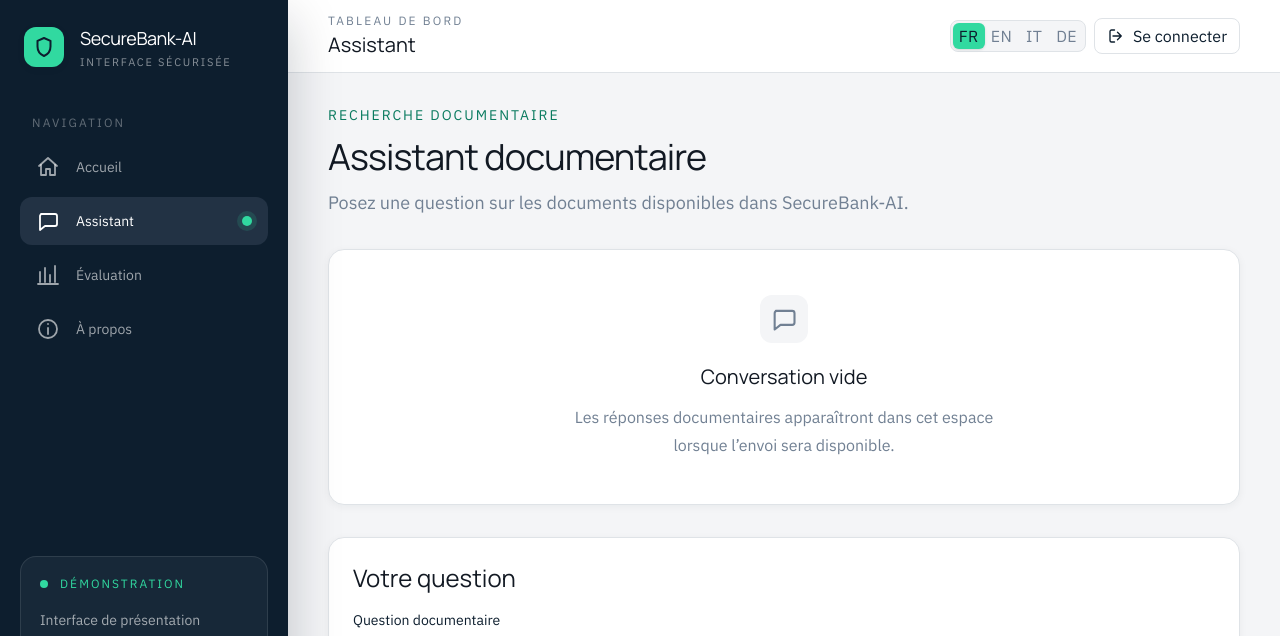
Test: on-demand authentication › keeps evaluation visible after a standard user login
The image size is (1280, 636).
Click the button "Se connecter" at (1167, 36), box [1094,18,1240,54]
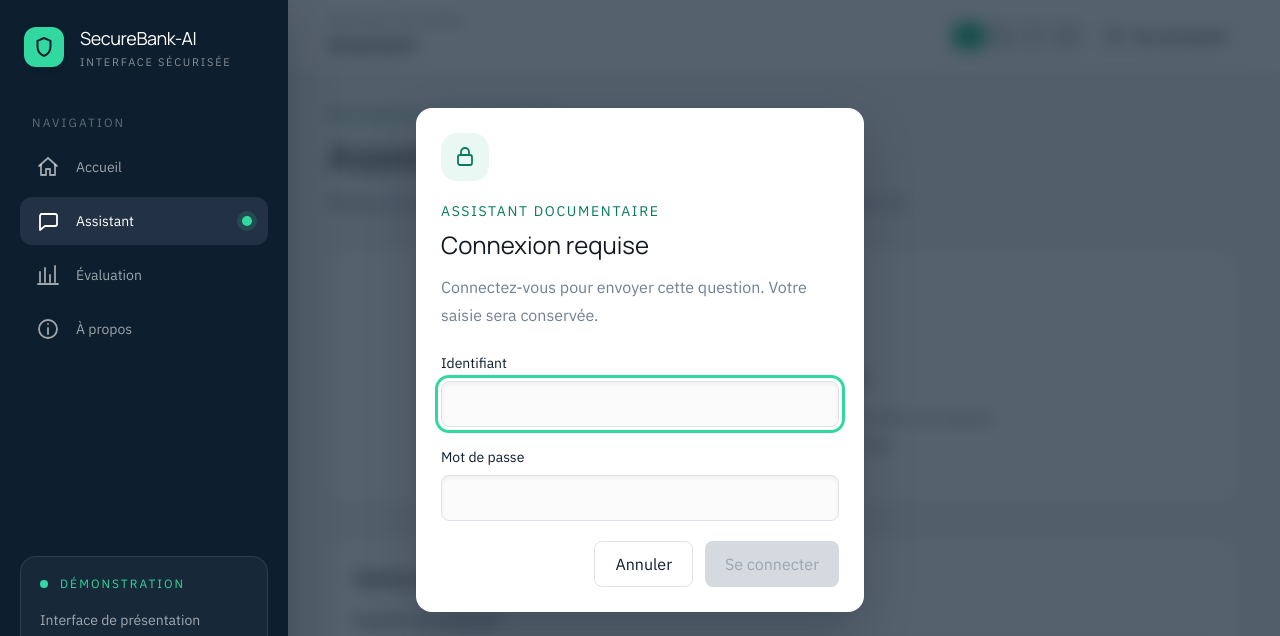
Type "demo.user" into the field labelled "Identifiant" at (640, 404), box [441,381,839,427]
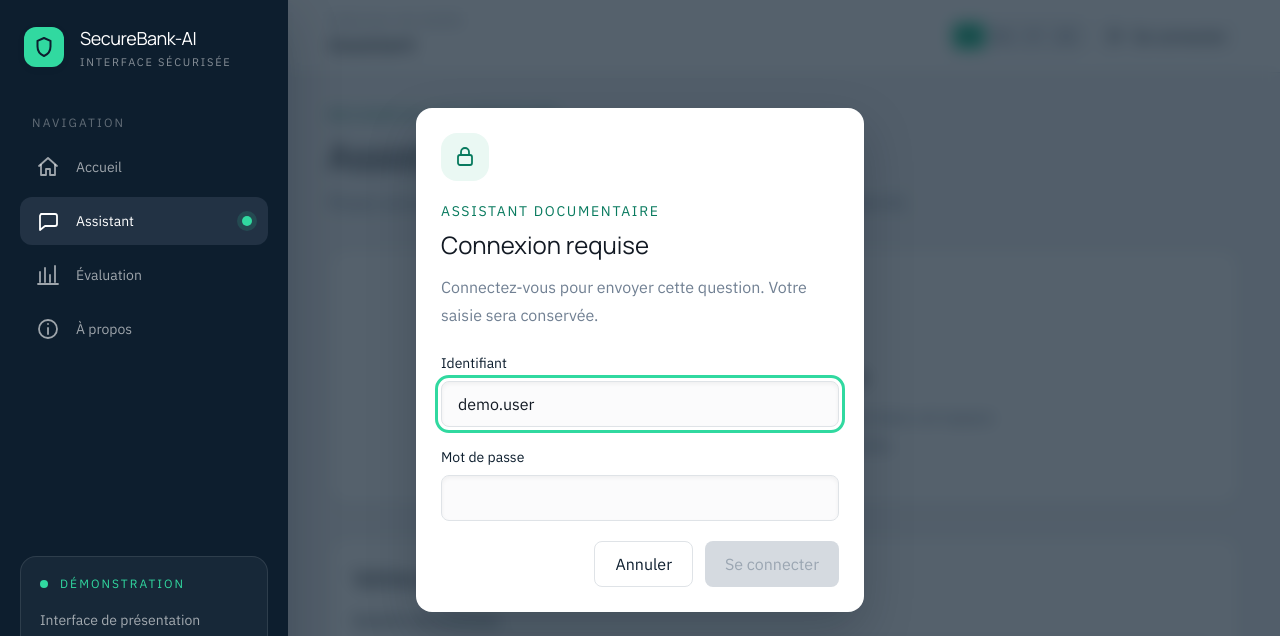
Type "synthetic-password" into the password field labelled "Mot de passe" at (640, 498), box [441,475,839,521]
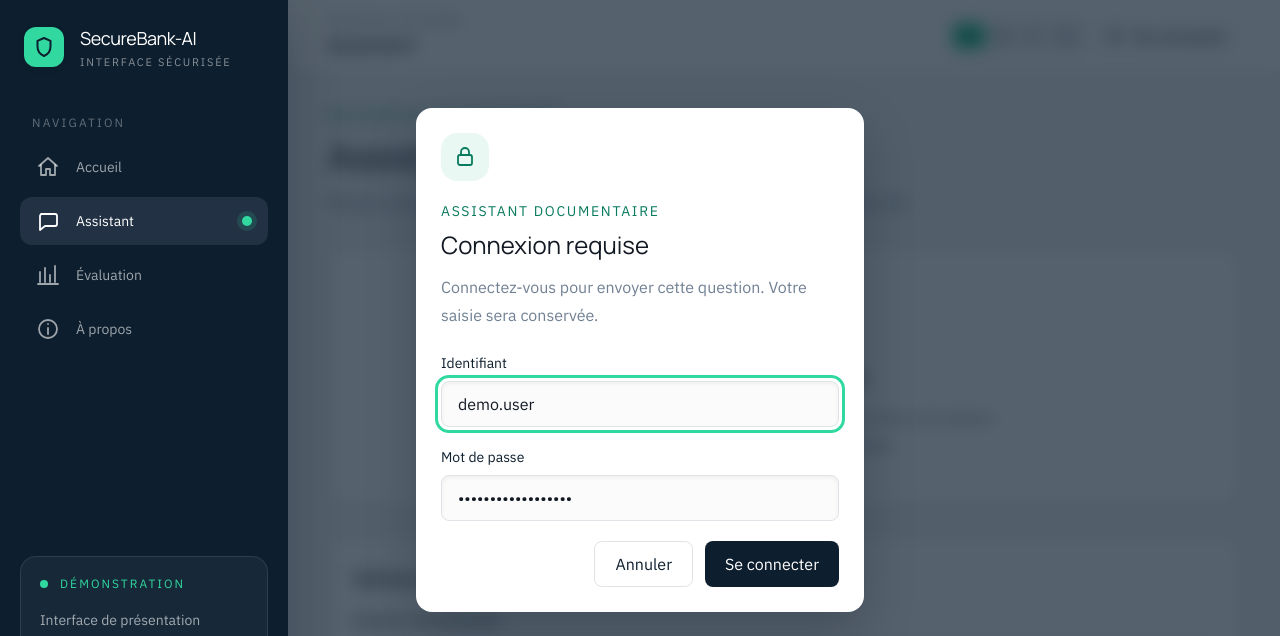
Click the button "Se connecter" at (772, 564), box [705,541,839,587]
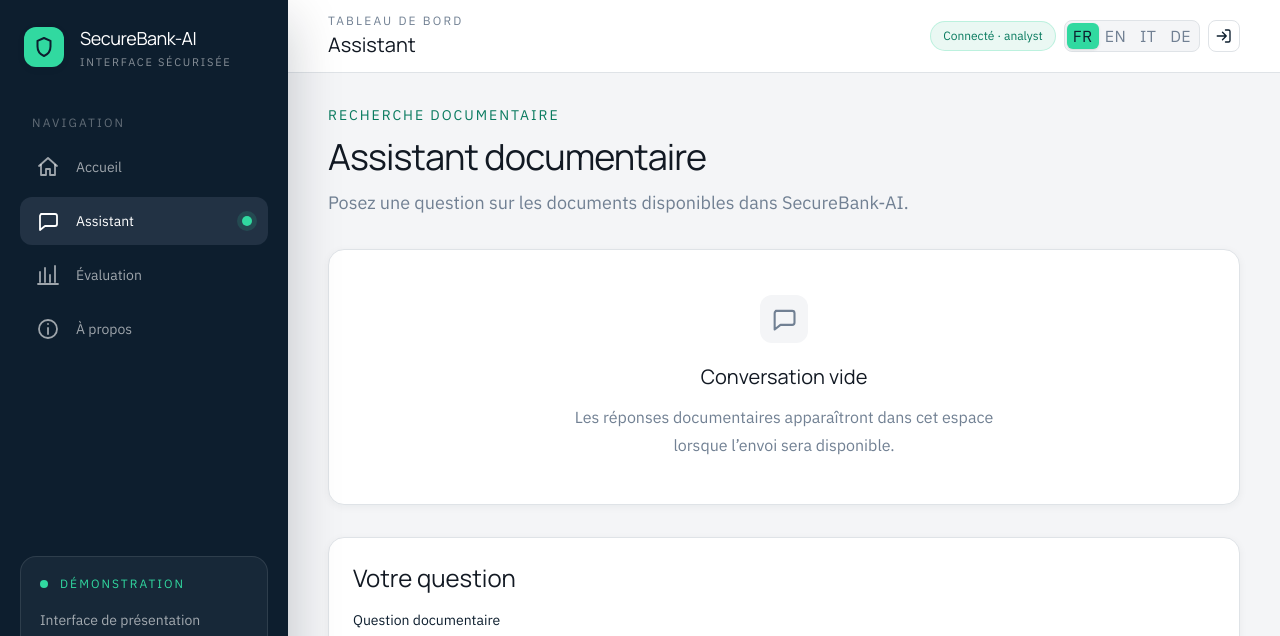
expect the link "Évaluation" is shown: met, box [36,262,142,286]
expect the text "Connecté · analyst" is shown: met, box [930,21,1056,51]
